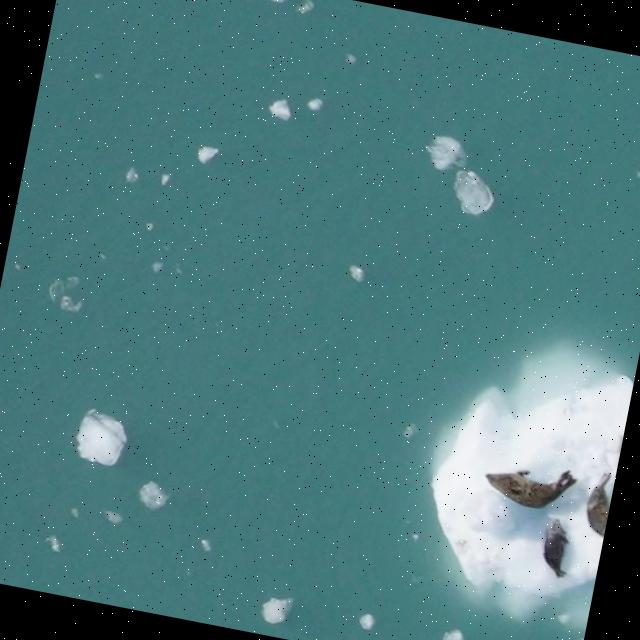seal: (482, 470, 575, 508), (585, 472, 612, 538), (540, 519, 568, 578)
